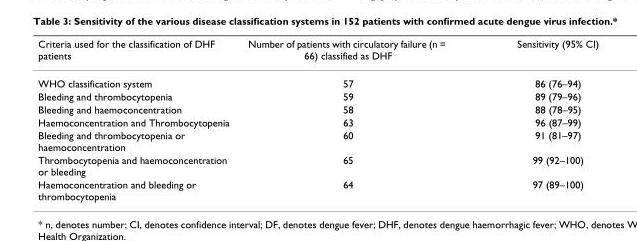table: (37, 37, 598, 201)
table column: (238, 37, 480, 201), (37, 37, 238, 201), (480, 37, 598, 201)
table column header: (37, 37, 598, 69)
table row: (37, 37, 598, 69), (37, 152, 598, 177), (37, 128, 598, 152), (37, 177, 598, 201), (37, 69, 598, 89), (37, 89, 598, 102), (37, 102, 598, 115), (37, 115, 598, 128)
